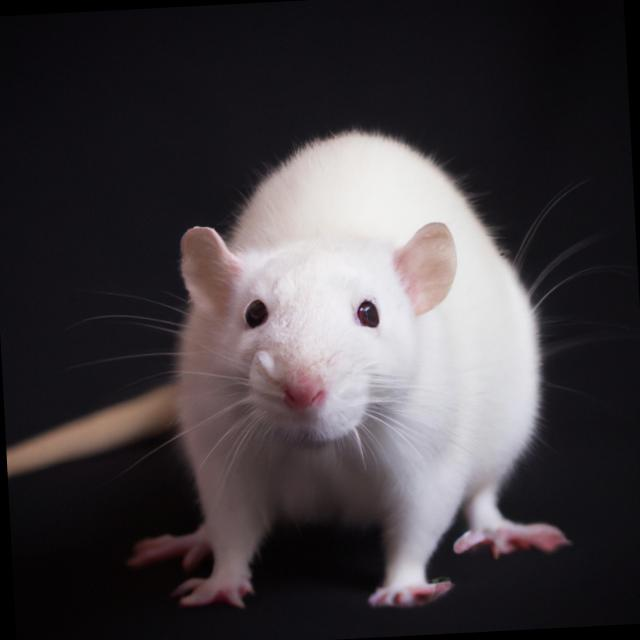rodents: (100, 100, 578, 620)
